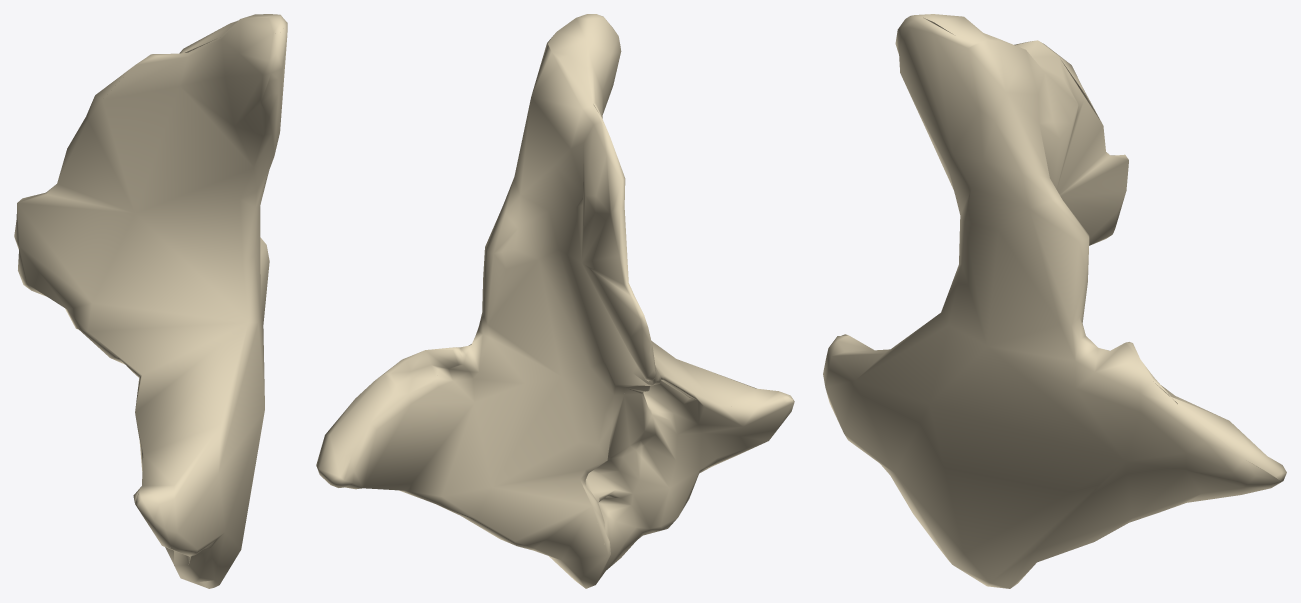
Rendered from esqueleto-zygomatic-bone-l.glb.
3 renders of one model, left to right at view 1: azimuth 30°, elevation 25°; view 2: azimuth 150°, elevation 25°; view 3: azimuth 270°, elevation 25°, orthographic. The views are drawn at different scales.
Visible parts, largest first — view 1: Zygomatic bone.l; view 2: Zygomatic bone.l; view 3: Zygomatic bone.l.
Boxes of the visible parts, x1,y1,x2,y2 form: Zygomatic bone.l: (14, 14, 287, 588); Zygomatic bone.l: (316, 14, 794, 588); Zygomatic bone.l: (823, 14, 1286, 588).
Bounding box in the file's own units: 0.0307 × 0.0546 × 0.039.
